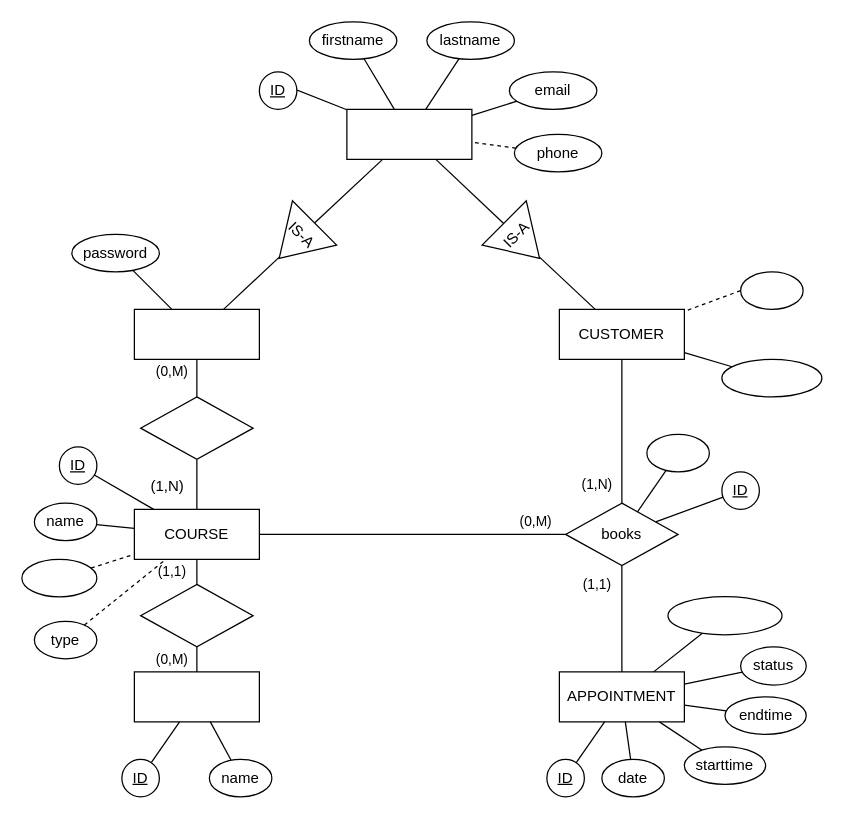
Image size: 844x819. Some labels were removed from this diagram. The shapes that lost their labels are listed below. From the top down, each one's box as (x1, y1, x2, y2) in pixels, then its label:
(346, 108, 472, 159): PERSON
(739, 271, 803, 309): class
(133, 308, 259, 359): PROVIDER
(721, 358, 822, 397): organisation
(139, 396, 253, 459): conducts
(646, 433, 709, 472): URL
(21, 558, 97, 597): duration
(139, 583, 253, 647): uses
(667, 595, 782, 635): proposer_id
(133, 671, 259, 722): ROOM
